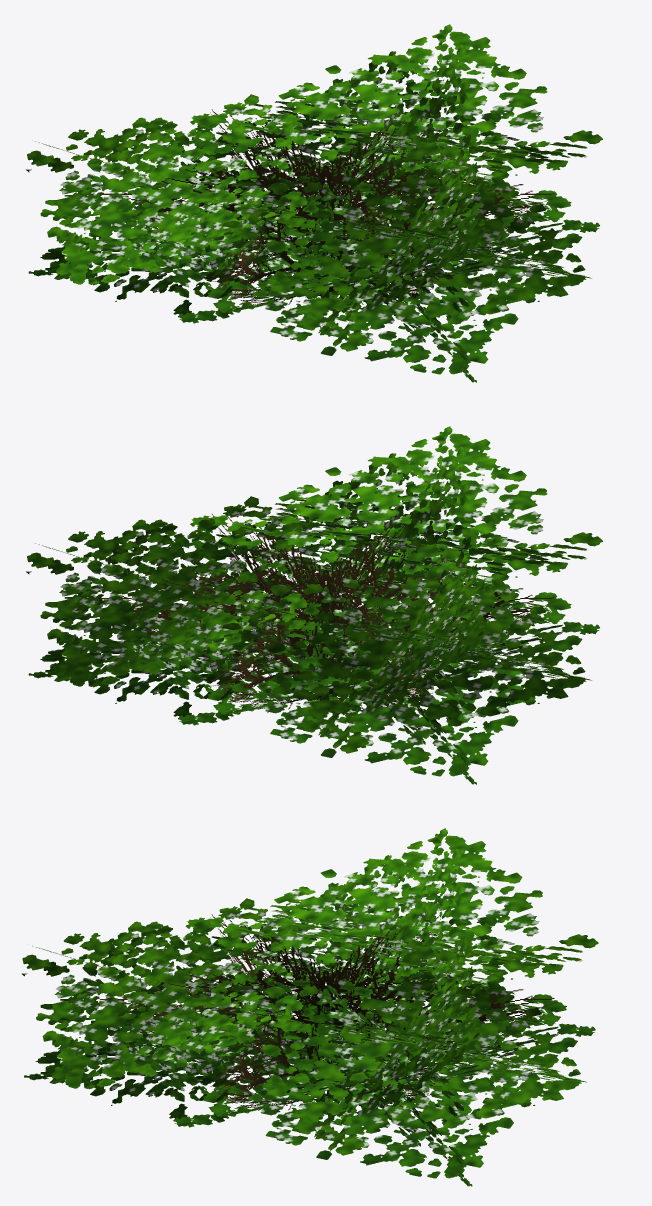
File: braam_1.fbx
3 views of the same model, one above another, from view 1: azimuth 30°, elevation 25°; view 2: azimuth 150°, elevation 25°; view 3: azimuth 270°, elevation 25° (orthographic).
Visible parts, largest first — view 1: braam_1; view 2: braam_1; view 3: braam_1.
Part boxes in pixels (x1,y1,x2,y2): braam_1: [26, 24, 602, 382]; braam_1: [26, 426, 602, 784]; braam_1: [21, 828, 598, 1186].
Bounding box in the file's own units: 548 × 154 × 521.
